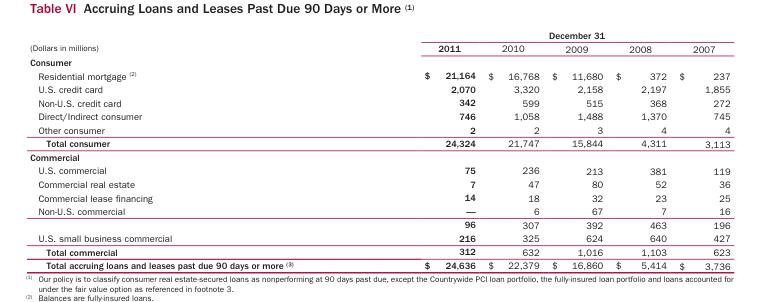table: (29, 29, 729, 270)
table column: (29, 29, 358, 270), (358, 29, 481, 270), (544, 29, 608, 270), (608, 29, 672, 270), (481, 29, 544, 270), (672, 29, 729, 270)
table column header: (29, 29, 729, 55)
table projected row header: (29, 55, 729, 68), (29, 150, 729, 163)
table row: (29, 41, 729, 55), (29, 68, 729, 82), (29, 95, 729, 109), (29, 122, 729, 136), (29, 136, 729, 150), (29, 163, 729, 177), (29, 190, 729, 204), (29, 217, 729, 231), (29, 244, 729, 258), (29, 55, 729, 68), (29, 82, 729, 95), (29, 109, 729, 122), (29, 150, 729, 163), (29, 177, 729, 190), (29, 204, 729, 217), (29, 231, 729, 244), (29, 29, 729, 41), (29, 258, 729, 270)
table spanning cell: (29, 29, 358, 55), (358, 29, 729, 41)
